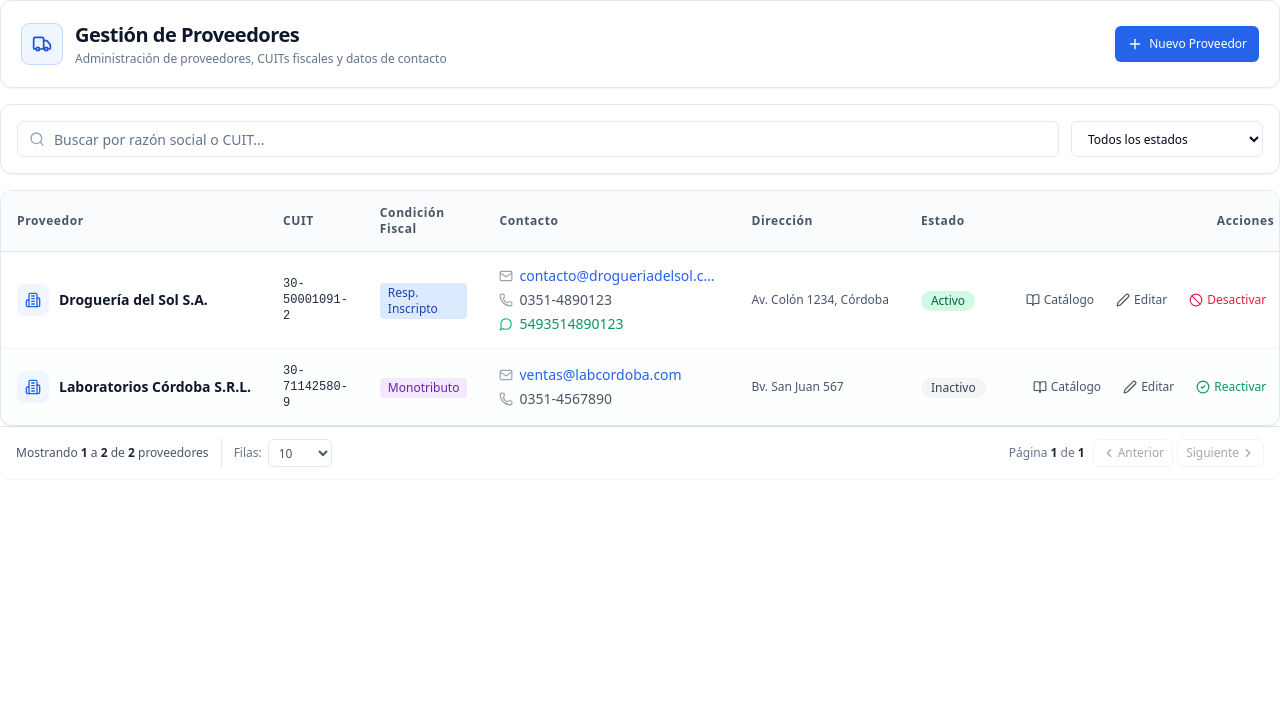
SuppliersPage Integration Suite › opens deactivate modal and confirms soft-delete
This screenshot has width=1280, height=720.
Expected: the text "Droguería del Sol S.A." is shown, x1=59 y1=290 x2=208 y2=310
Click the button titled "Desactivar proveedor": (1228, 300) x1=1181 y1=284 x2=1274 y2=316
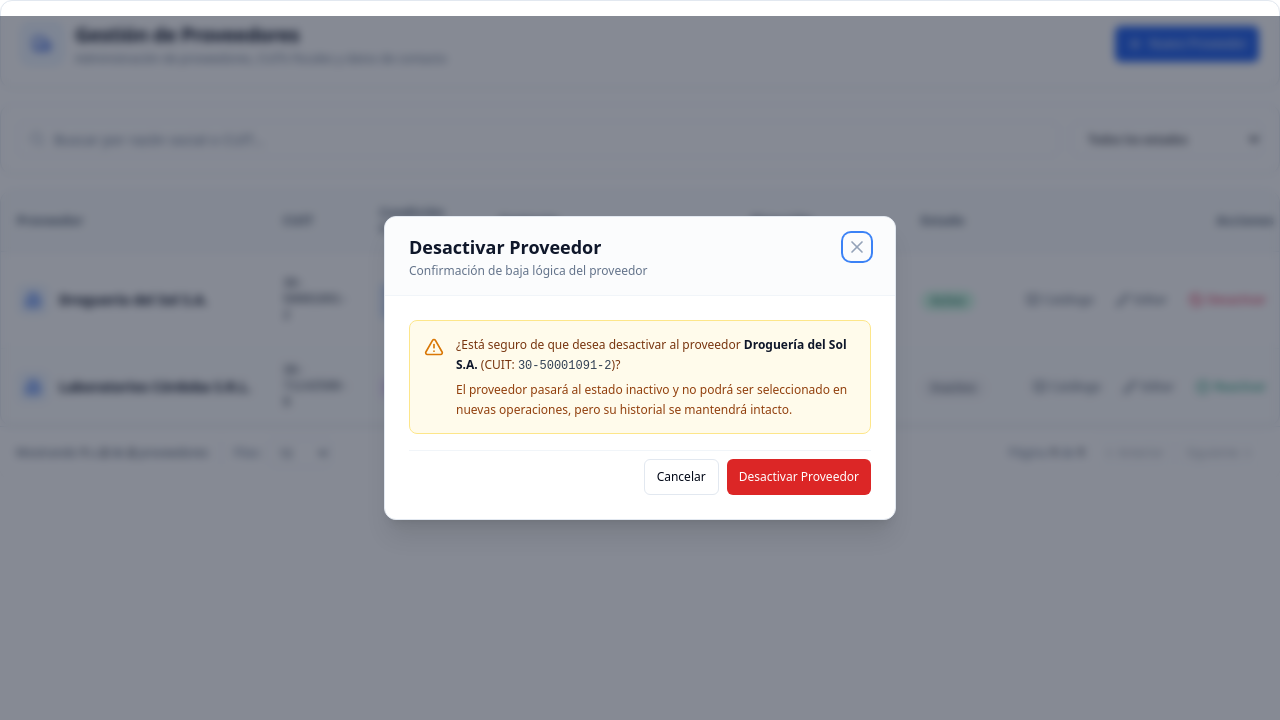
Expected: the heading "Desactivar Proveedor" is shown, x1=409 y1=235 x2=601 y2=259
Click the button "Desactivar Proveedor": (799, 477) x1=727 y1=459 x2=871 y2=495
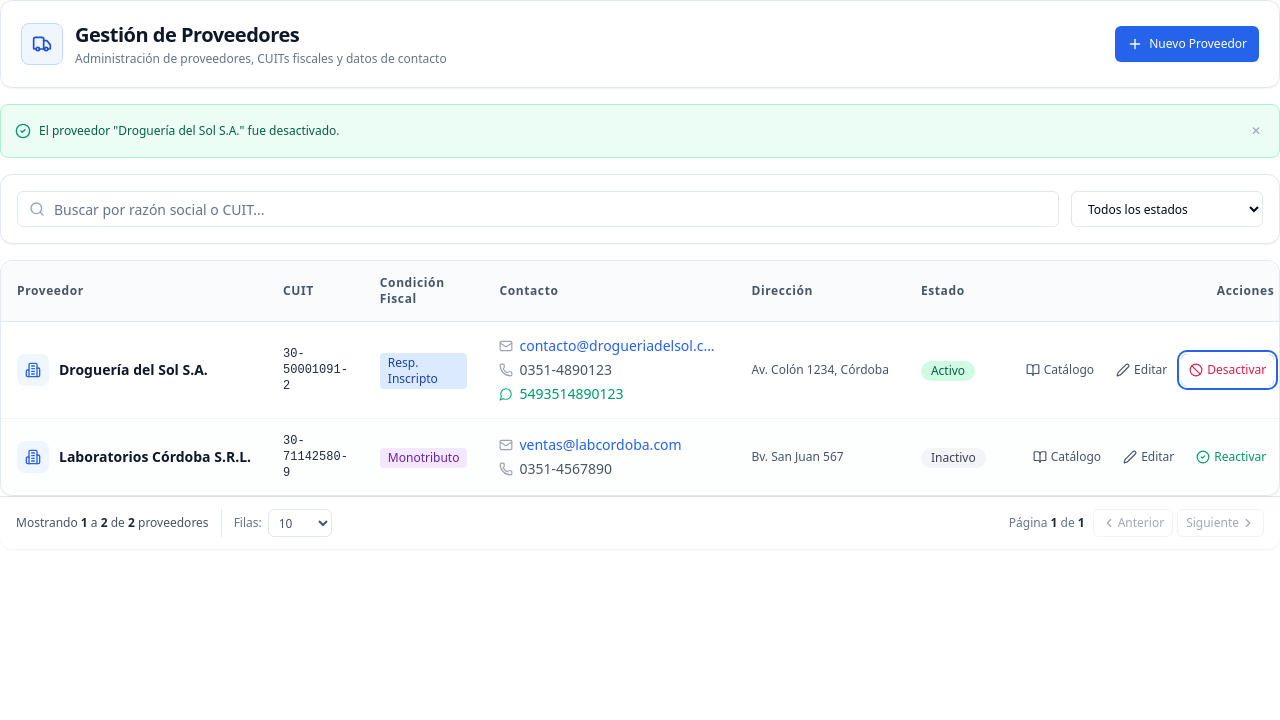
Expected: the text "El proveedor \"Droguería del Sol S.A.\" fue desactivado." is shown, x1=39 y1=123 x2=340 y2=139
